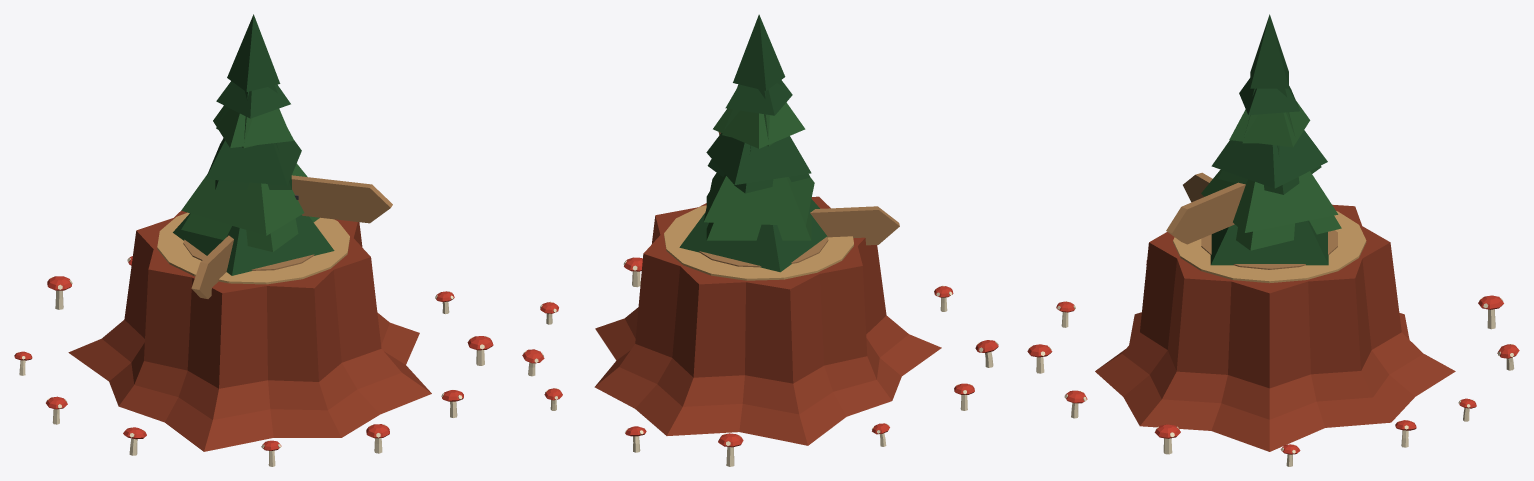
File: w2_fairyglade.fbx
The picture shows the model from 3 angles, left to right: view 1: azimuth 30°, elevation 25°; view 2: azimuth 150°, elevation 25°; view 3: azimuth 270°, elevation 25°; orthographic projection.
Parts seen in each view (by area): view 1: FairyStump.Bark, SaplingA.Needles, SaplingA.NeedlesLight, Signpost.Boards, FairyStump.CutTop, FairyMushrooms.Caps, SaplingB.NeedlesLight, FairyMushrooms.Stalks, FairyStump.CutRings, SaplingB.Needles; view 2: FairyStump.Bark, SaplingA.Needles, SaplingA.NeedlesLight, FairyStump.CutTop, Signpost.Boards, FairyMushrooms.Caps, SaplingB.NeedlesLight, FairyMushrooms.Stalks, SaplingB.Needles, FairyStump.CutRings; view 3: FairyStump.Bark, SaplingA.Needles, SaplingA.NeedlesLight, FairyStump.CutTop, Signpost.Boards, FairyMushrooms.Caps, SaplingB.NeedlesLight, FairyMushrooms.Stalks, FairyStump.CutRings, SaplingB.Needles.
Boxes of the visible parts, x1=… form: FairyStump.Bark: x1=68, y1=210, x2=431, y2=451; SaplingA.Needles: x1=173, y1=14, x2=334, y2=275; SaplingA.NeedlesLight: x1=181, y1=105, x2=307, y2=235; Signpost.Boards: x1=191, y1=175, x2=392, y2=298; FairyStump.CutTop: x1=157, y1=212, x2=349, y2=284; FairyMushrooms.Caps: x1=14, y1=256, x2=493, y2=450; SaplingB.NeedlesLight: x1=181, y1=107, x2=319, y2=251; FairyMushrooms.Stalks: x1=17, y1=258, x2=488, y2=466; FairyStump.CutRings: x1=183, y1=239, x2=314, y2=270; SaplingB.Needles: x1=215, y1=85, x2=291, y2=189; FairyStump.Bark: x1=594, y1=196, x2=941, y2=445; SaplingA.Needles: x1=679, y1=14, x2=827, y2=272; SaplingA.NeedlesLight: x1=703, y1=102, x2=814, y2=225; FairyStump.CutTop: x1=664, y1=205, x2=853, y2=280; Signpost.Boards: x1=718, y1=132, x2=899, y2=245; FairyMushrooms.Caps: x1=522, y1=257, x2=998, y2=447; SaplingB.NeedlesLight: x1=706, y1=109, x2=811, y2=240; FairyMushrooms.Stalks: x1=523, y1=260, x2=998, y2=466; SaplingB.Needles: x1=707, y1=81, x2=810, y2=193; FairyStump.CutRings: x1=699, y1=236, x2=828, y2=267; FairyStump.Bark: x1=1095, y1=204, x2=1455, y2=451; SaplingA.Needles: x1=1210, y1=14, x2=1328, y2=265; SaplingA.NeedlesLight: x1=1201, y1=101, x2=1338, y2=232; FairyStump.CutTop: x1=1173, y1=211, x2=1366, y2=283; Signpost.Boards: x1=1166, y1=172, x2=1245, y2=244; FairyMushrooms.Caps: x1=1027, y1=260, x2=1519, y2=454; SaplingB.NeedlesLight: x1=1222, y1=112, x2=1341, y2=250; FairyMushrooms.Stalks: x1=1028, y1=297, x2=1514, y2=466; FairyStump.CutRings: x1=1201, y1=230, x2=1337, y2=269; SaplingB.Needles: x1=1218, y1=88, x2=1321, y2=194.
Bounding box in the file's own units: 11.25 × 9.34 × 11.41.
